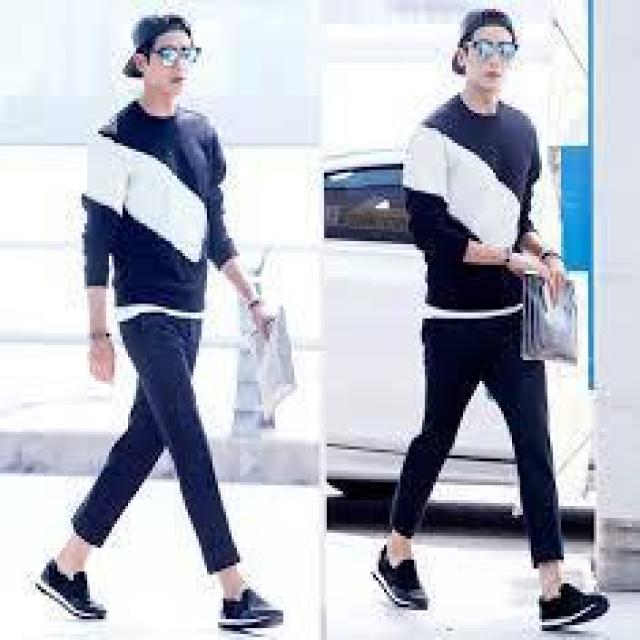pants: (390, 298, 574, 566), (72, 308, 247, 579)
sweater: (79, 99, 251, 328), (398, 96, 548, 337)
